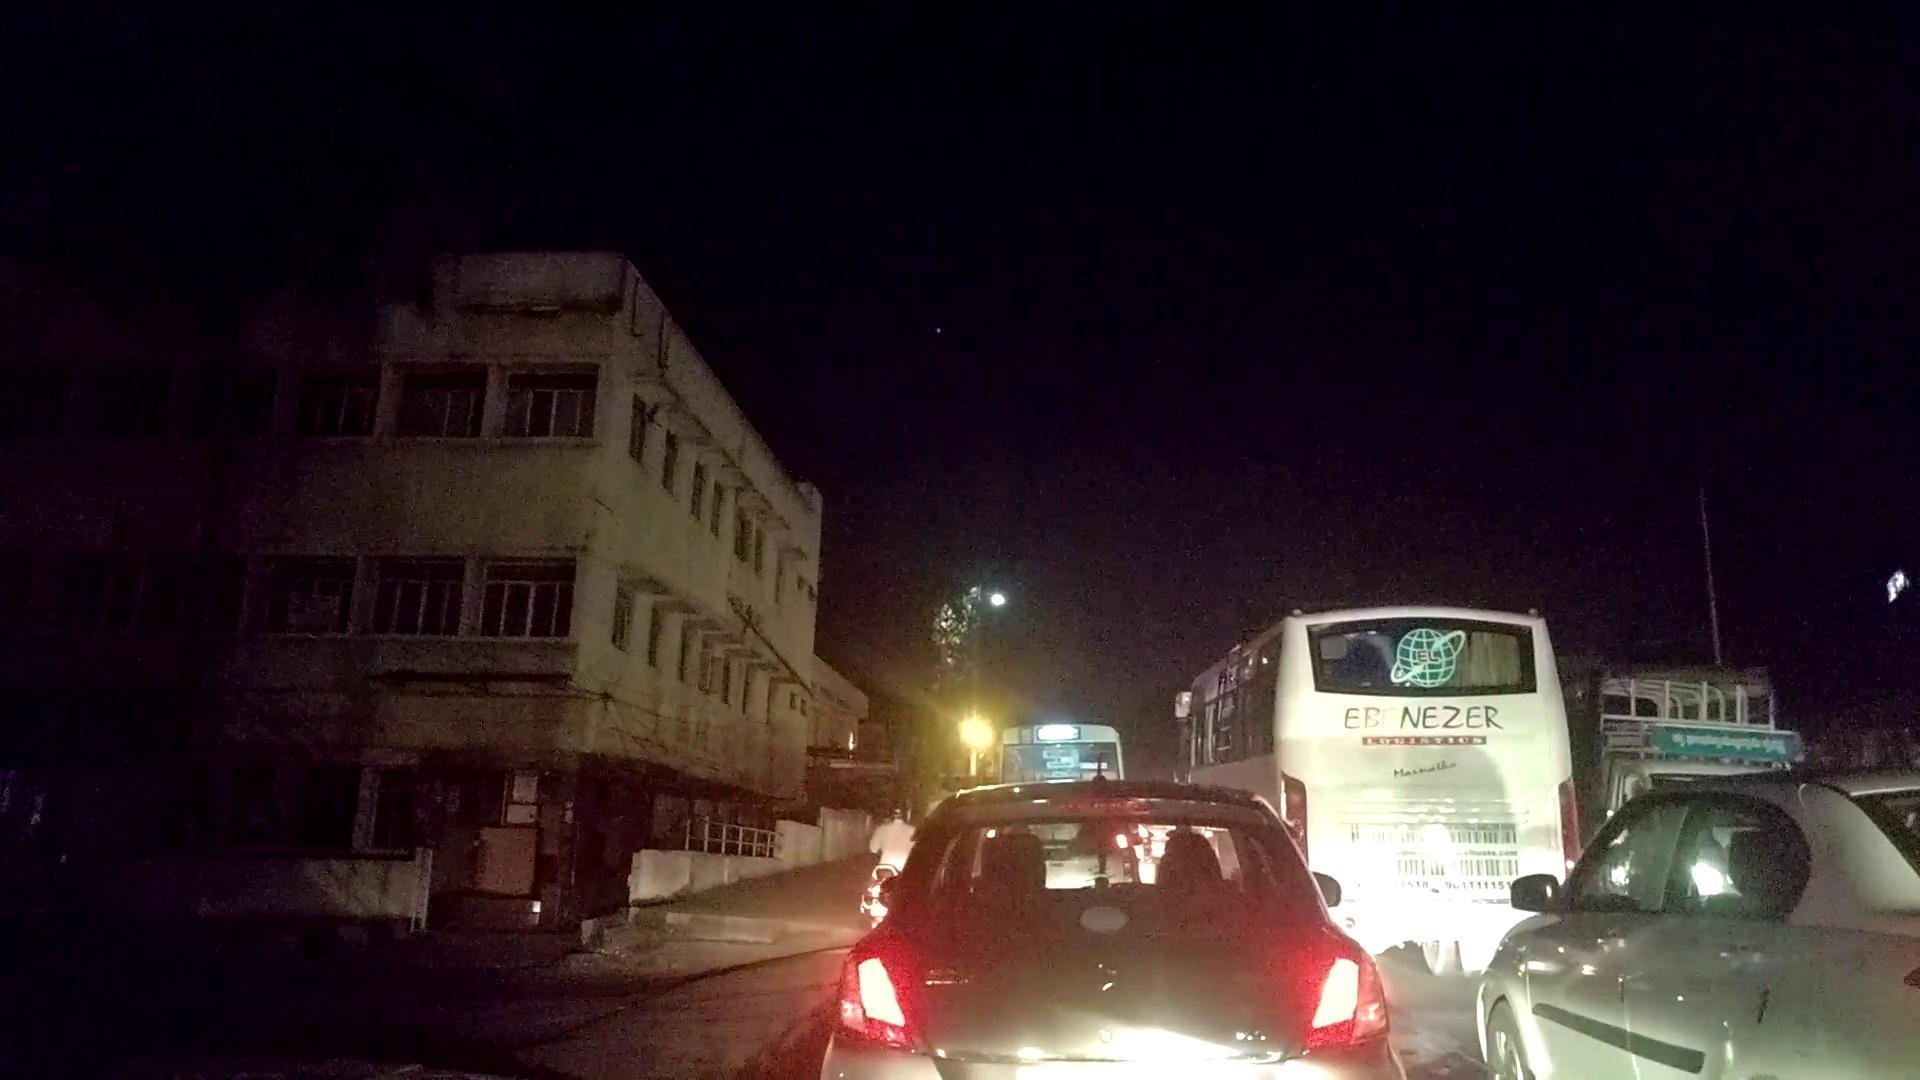on: (870, 472, 1135, 868), (920, 603, 1159, 858)
